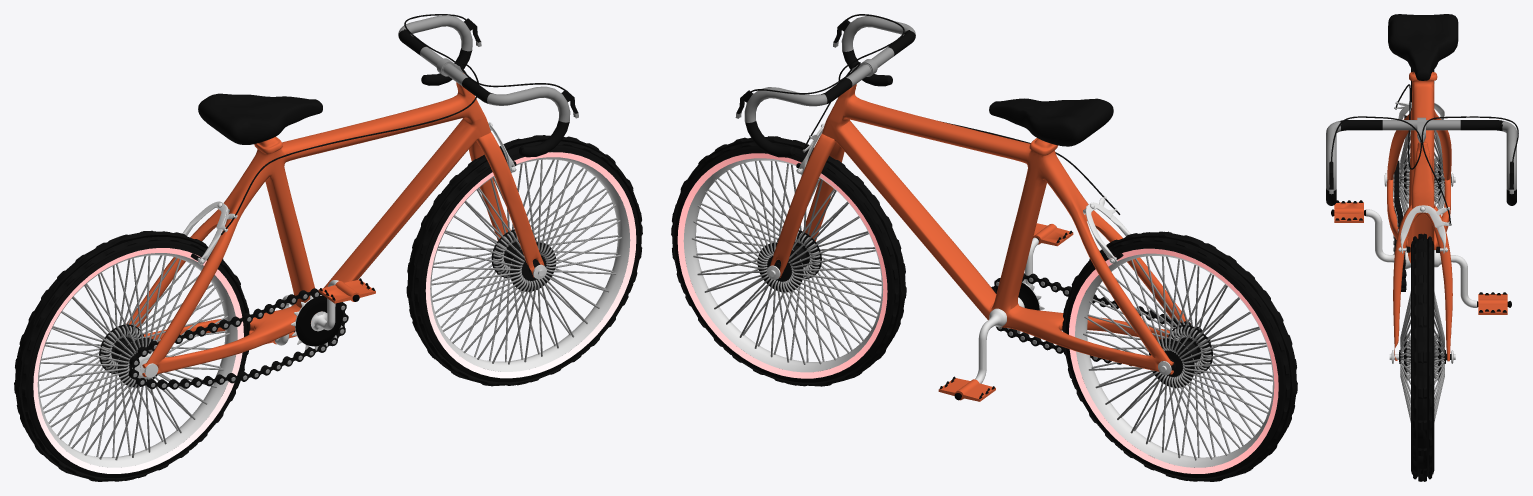
File: bike-optim.glb
The picture shows the model from 3 angles, left to right: view 1: azimuth 30°, elevation 25°; view 2: azimuth 150°, elevation 25°; view 3: azimuth 270°, elevation 25°; orthographic projection. The views are drawn at different scales.
Parts seen in each view (by area): view 1: Bike, B_Pneu; view 2: Bike, B_Pneu; view 3: Bike.
Boxes of the visible parts, <box> form: Bike: <box>14,14,642,481</box>; B_Pneu: <box>33,152,636,473</box>; Bike: <box>671,14,1297,481</box>; B_Pneu: <box>677,153,1278,473</box>; Bike: <box>1326,14,1518,481</box>.
Size of the model in its own units: 4.7 by 2.5 by 1.36.
2 materials, 2 textured.
